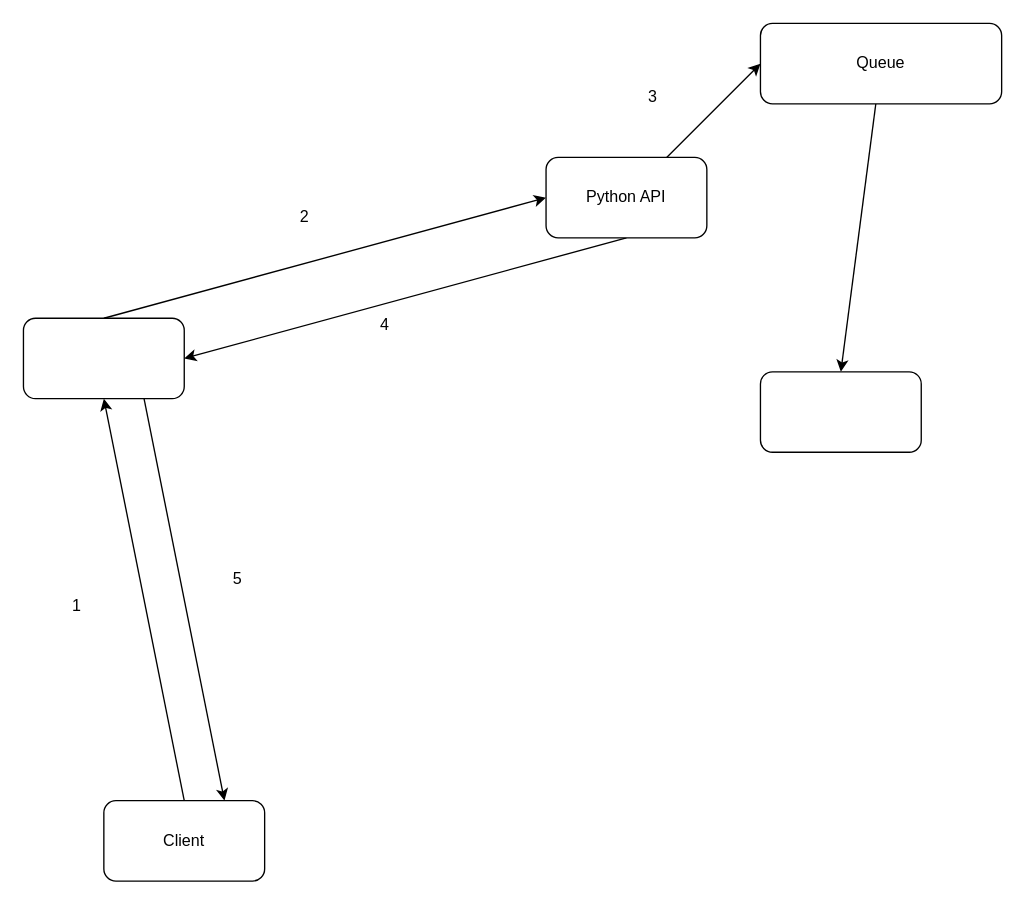
Some shapes in this 1025 by 905 pixel diagram are drawn without their labels. Here are the shapes that lost their labels. From the top down, the centre of each, then its label:
(103,358): Node API
(840,411): Model Worker
